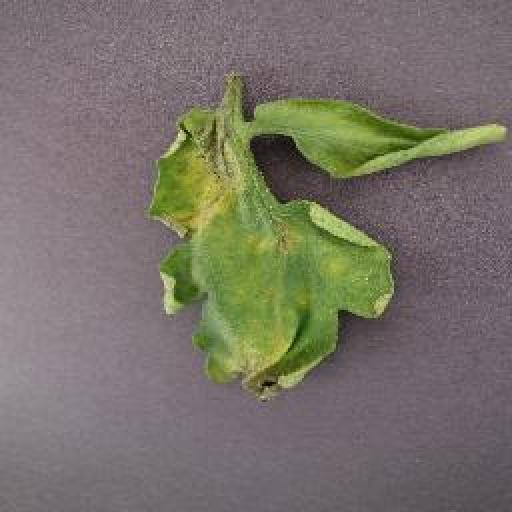disease_tomato: (146, 96, 398, 404), (254, 96, 506, 179)
